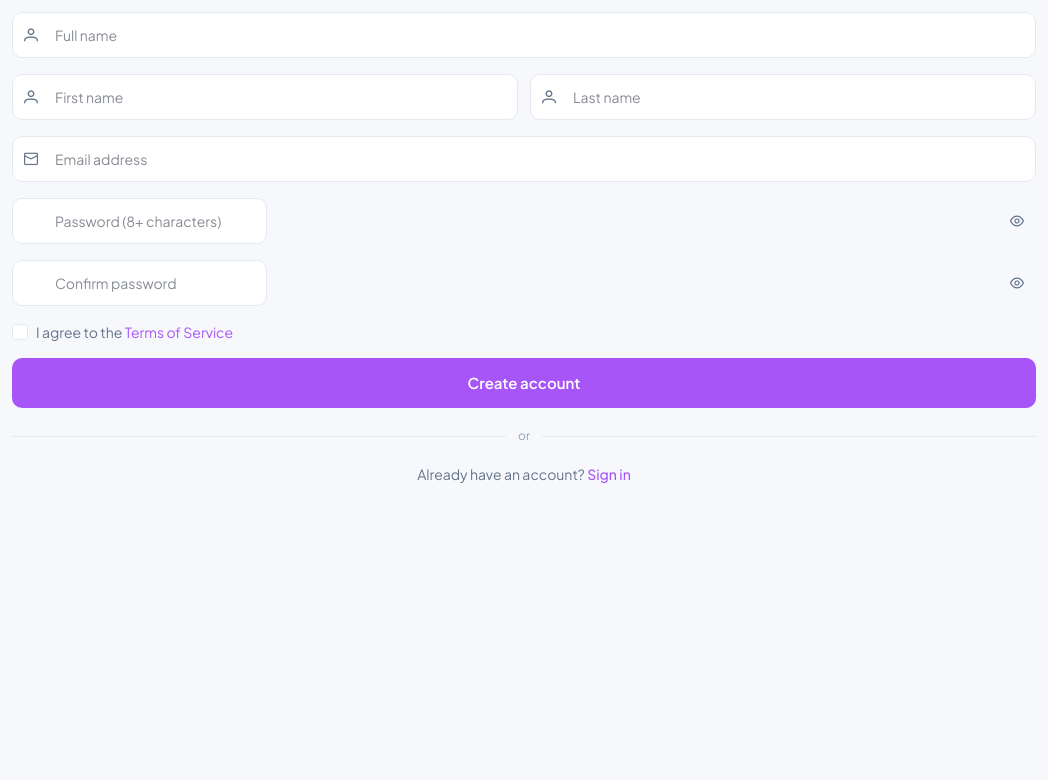
Test case: RegisterForm › shows required error for empty name on submit
The width and height of the screenshot is (1048, 780).
Click the button "Create account". click: (524, 383)
box: [12, 358, 1036, 408]
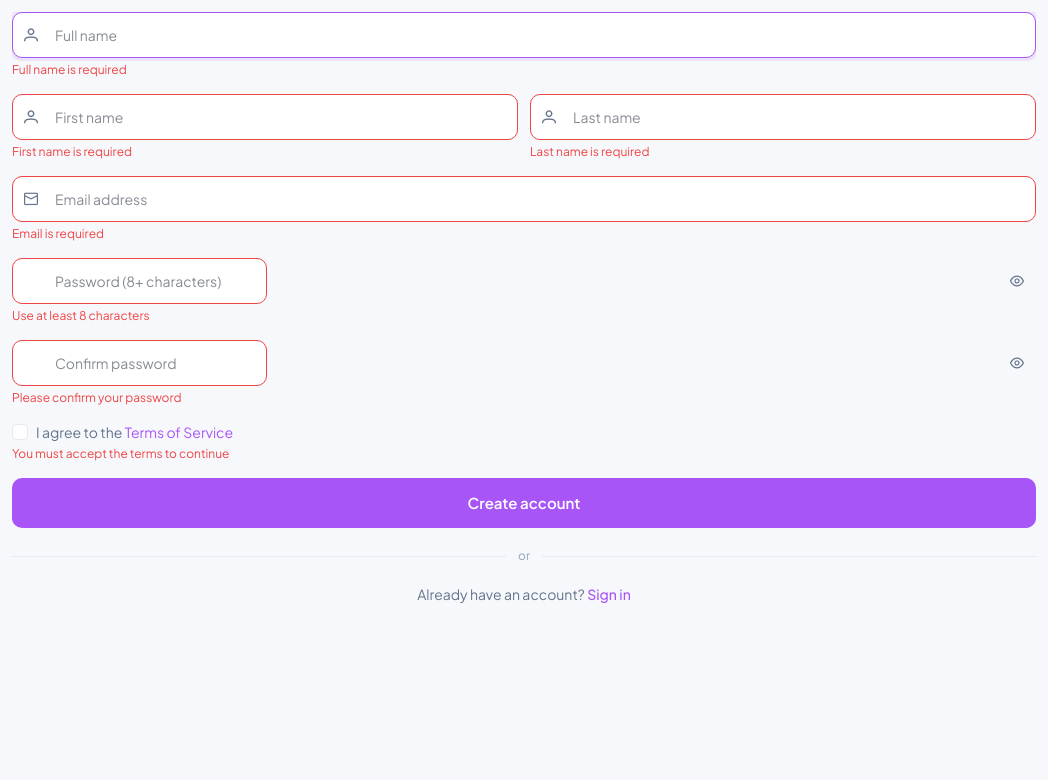
Check: the text "Full name is required" is shown, box [12, 62, 127, 77]
